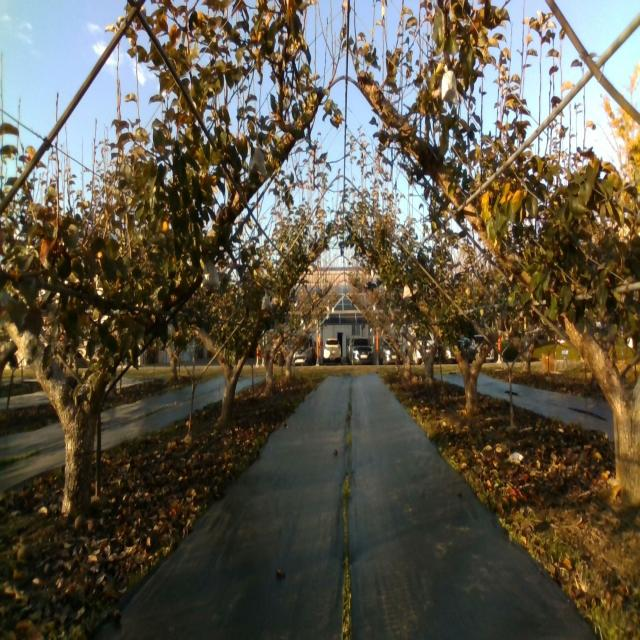pearbags: (441, 64, 458, 104), (200, 261, 220, 289), (249, 147, 267, 177), (261, 294, 272, 312)
